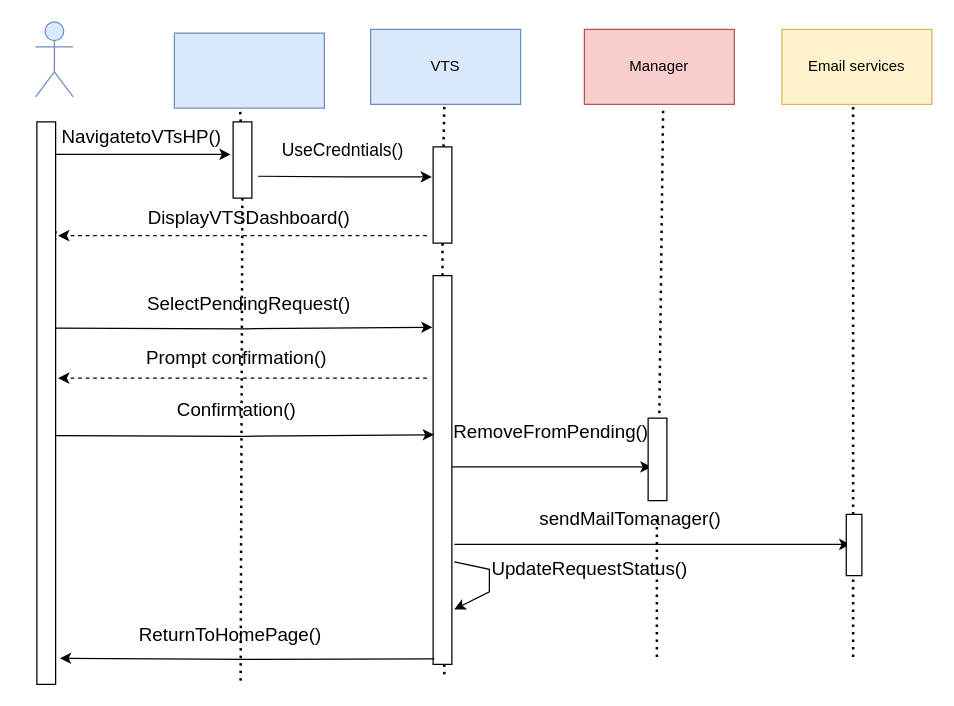
The diagram is 954 pixels wide and 706 high, and some of its shapes have lost their labels. The shapes that lost their labels are listed below. From the top down, each one's box as (x1, y1, x2, y2) in pixels, then its label:
(34, 21, 73, 97): Employee
(173, 32, 324, 108): intranet portal
